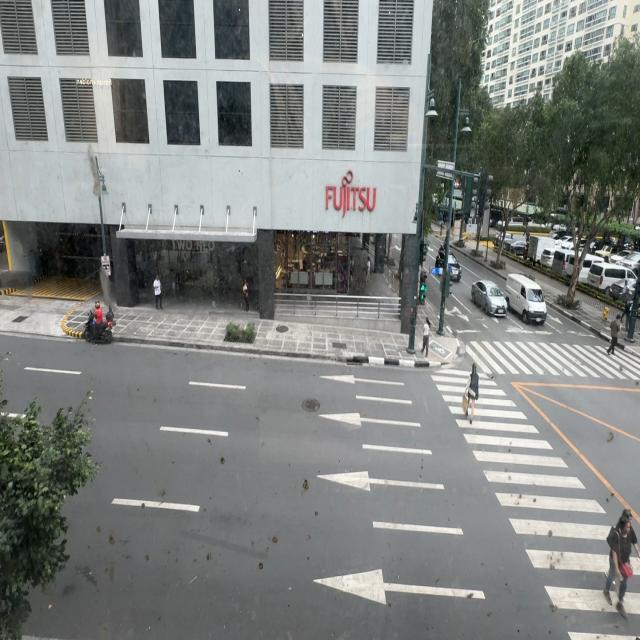crossing: (602, 508, 640, 616), (468, 362, 483, 424), (608, 314, 620, 354), (421, 318, 430, 358)
